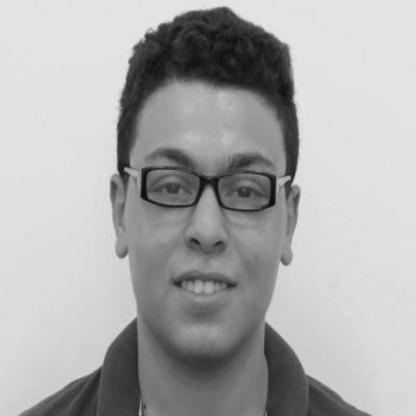glasses: (105, 151, 301, 217)
